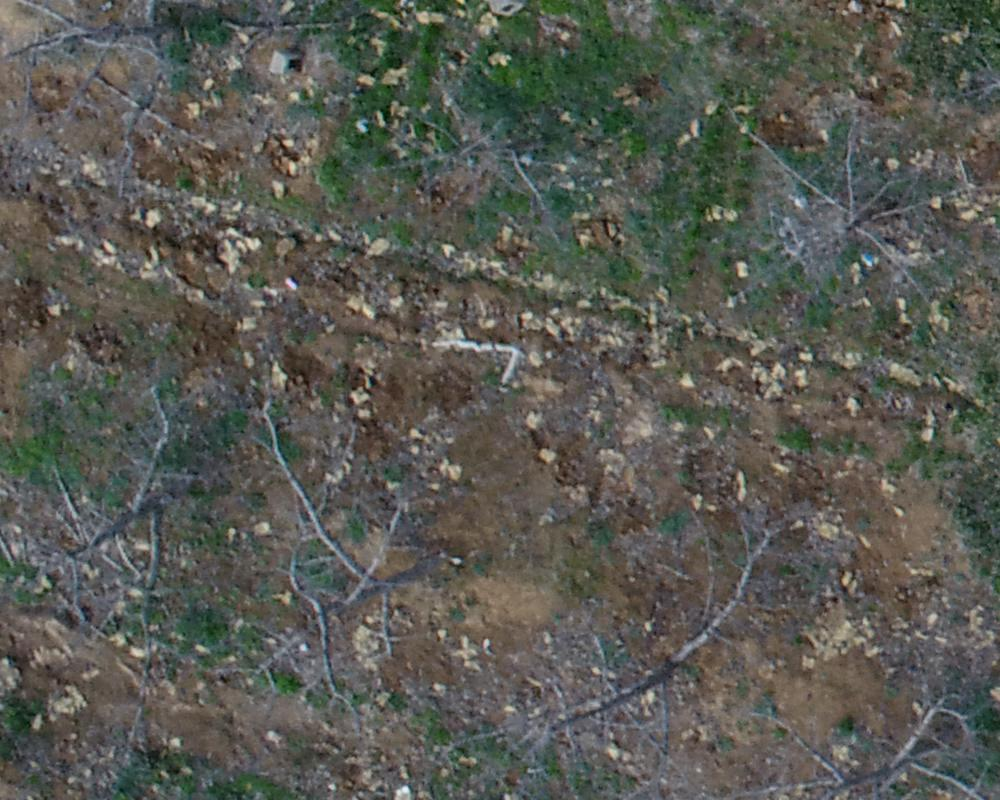apple: (513, 506, 802, 759), (244, 406, 449, 714), (19, 411, 211, 661), (744, 109, 979, 303), (376, 104, 590, 250), (10, 10, 267, 124), (731, 680, 990, 790)
